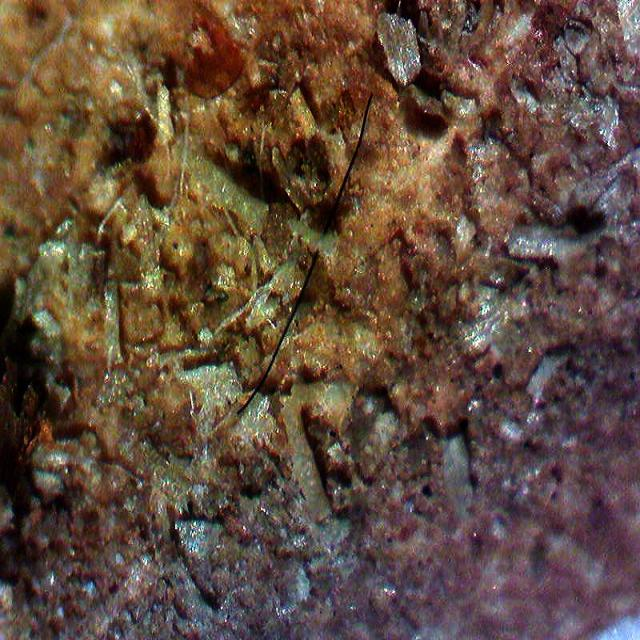microplastic: (237, 97, 371, 415)
